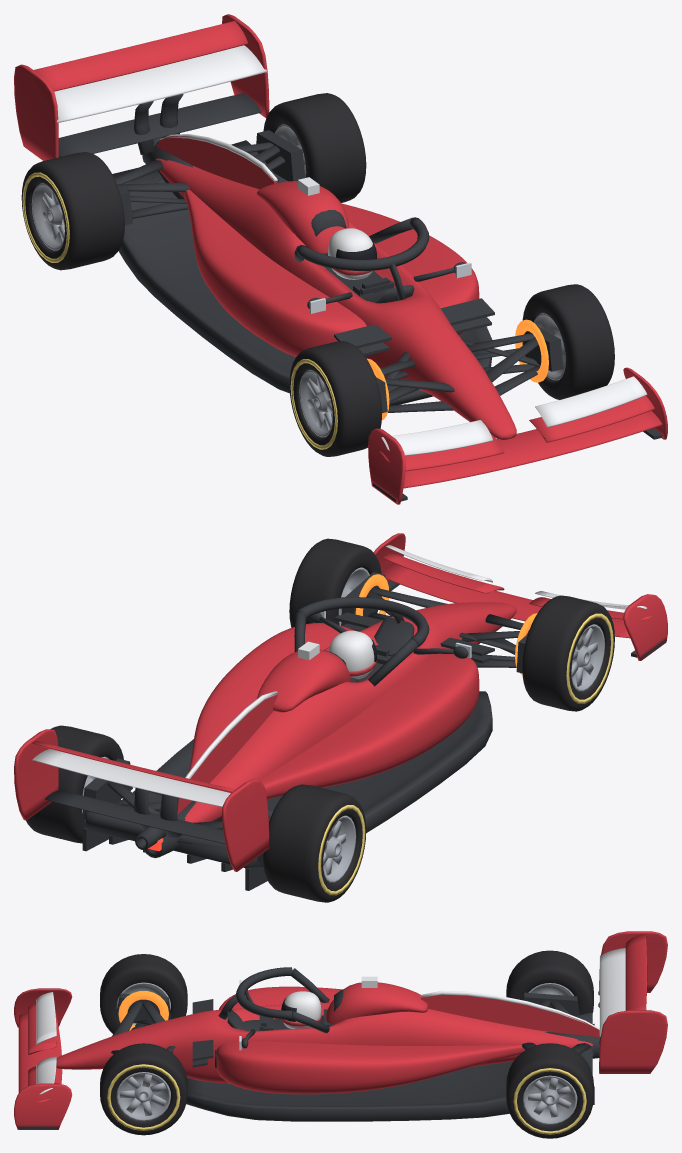
The model's file is f1car-2026.glb.
3 views of the same model, one above another, from view 1: azimuth 30°, elevation 25°; view 2: azimuth 150°, elevation 25°; view 3: azimuth 270°, elevation 25° (orthographic). The views are drawn at different scales.
Parts seen in each view (by area): view 1: chassis, sidepods, floor, tyre_rl, rear_wing_main, tyre_rr, tyre_fl, tyre_fr, rear_wing_flap, rear_wing_endplates, front_wing_main, front_wing_flaps (+18 smaller); view 2: sidepods, chassis, floor, tyre_rl, tyre_fl, rear_wing_endplates, tyre_fr, tyre_rr, airbox, rear_wing_main, halo, front_wing_main (+20 smaller); view 3: chassis, sidepods, floor, rear_wing_endplates, tyre_rr, tyre_fr, shark_fin, tyre_fl, front_wing_endplates, tyre_rl, airbox, rim_fr (+20 smaller).
Boxes of the visible parts, left/top/right/bottom form: chassis: left=155, top=158, right=516, bottom=439; sidepods: left=183, top=189, right=479, bottom=356; floor: left=112, top=140, right=492, bottom=405; tyre_rl: left=21, top=152, right=124, bottom=270; rear_wing_main: left=54, top=45, right=266, bottom=123; tyre_rr: left=263, top=93, right=366, bottom=202; tyre_fl: left=289, top=341, right=381, bottom=456; tyre_fr: left=522, top=284, right=614, bottom=399; rear_wing_flap: left=34, top=21, right=247, bottom=91; rear_wing_endplates: left=14, top=14, right=269, bottom=160; front_wing_main: left=403, top=411, right=662, bottom=488; front_wing_flaps: left=381, top=374, right=647, bottom=455; sidepods: left=189, top=623, right=479, bottom=798; chassis: left=185, top=602, right=516, bottom=822; floor: left=85, top=691, right=492, bottom=868; tyre_rl: left=263, top=784, right=366, bottom=902; tyre_fl: left=522, top=595, right=614, bottom=711; rear_wing_endplates: left=14, top=729, right=269, bottom=871; tyre_fr: left=289, top=538, right=381, bottom=627; tyre_rr: left=26, top=725, right=123, bottom=843; airbox: left=257, top=649, right=350, bottom=712; rear_wing_main: left=32, top=749, right=230, bottom=806; halo: left=294, top=597, right=429, bottom=686; front_wing_main: left=381, top=563, right=629, bottom=638; chassis: left=56, top=1002, right=592, bottom=1083; sidepods: left=216, top=986, right=525, bottom=1094; floor: left=186, top=1012, right=592, bottom=1121; rear_wing_endplates: left=599, top=931, right=667, bottom=1073; tyre_rr: left=506, top=1043, right=593, bottom=1138; tyre_fr: left=100, top=1043, right=187, bottom=1135; shark_fin: left=421, top=994, right=599, bottom=1037; tyre_fl: left=100, top=954, right=187, bottom=1033; front_wing_endplates: left=14, top=988, right=72, bottom=1129; tyre_rl: left=506, top=950, right=593, bottom=1014; airbox: left=326, top=982, right=428, bottom=1024; rim_fr: left=116, top=1072, right=170, bottom=1121.
Bounding box in the file's own units: 2.09 × 0.966 × 5.07.
